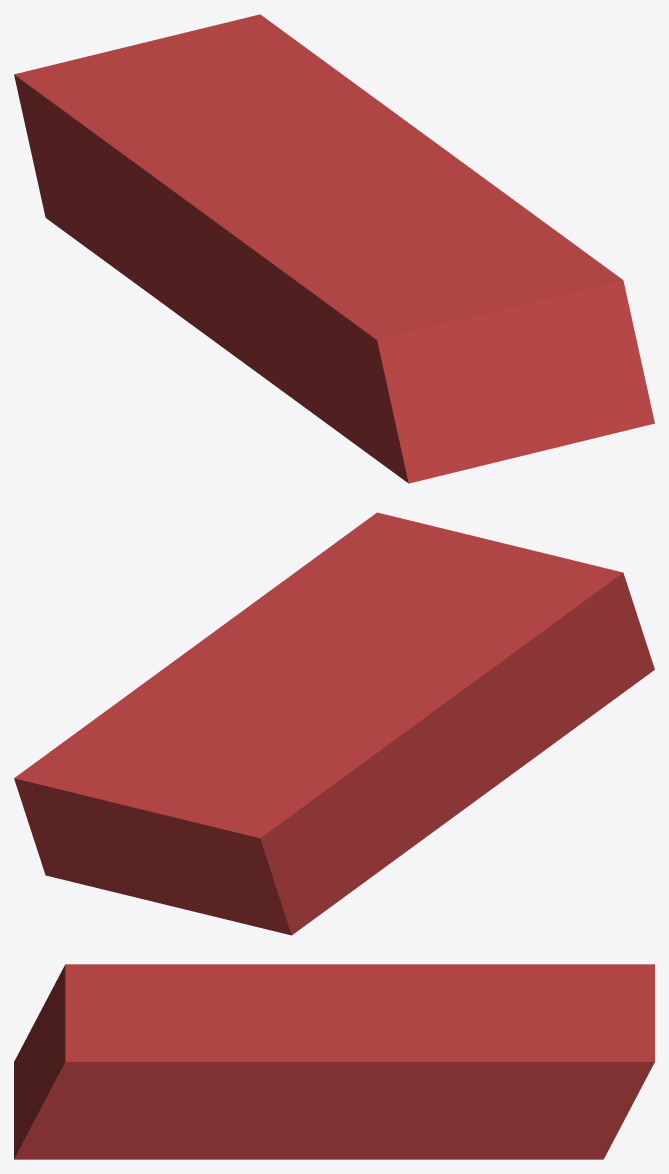
3 renders of one model, top to bottom at view 1: azimuth 30°, elevation 25°; view 2: azimuth 150°, elevation 25°; view 3: azimuth 270°, elevation 25°, orthographic. The views are drawn at different scales.
Parts seen in each view (by area): view 1: body; view 2: body; view 3: body.
Boxes of the visible parts, x1=… form: body: x1=14, y1=14, x2=654, y2=483; body: x1=14, y1=512, x2=654, y2=935; body: x1=14, y1=964, x2=654, y2=1159.
Size of the model in its own units: 0.018 by 0.0084 by 0.05.
